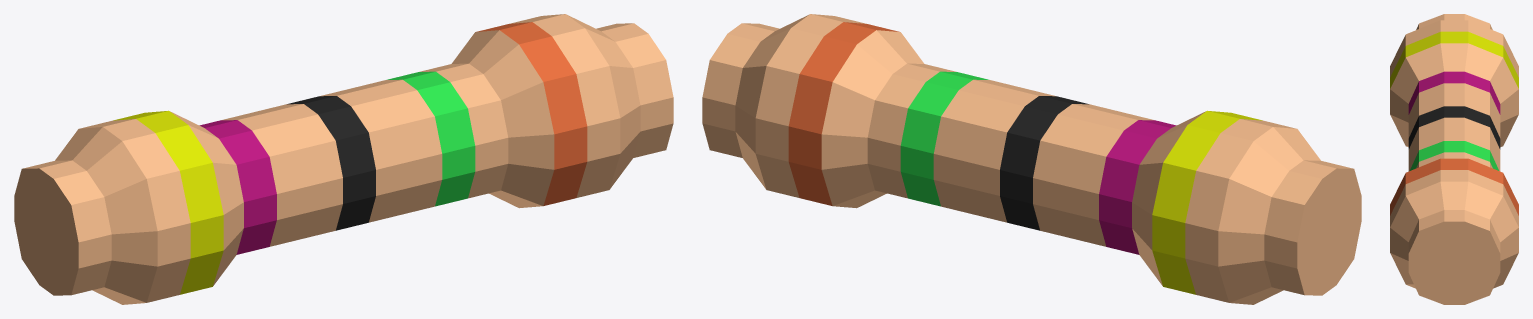
File: resistor.fbx
3 renders of one model, left to right at view 1: azimuth 30°, elevation 25°; view 2: azimuth 150°, elevation 25°; view 3: azimuth 270°, elevation 25°, orthographic. The views are drawn at different scales.
Visible parts, largest first — view 1: Cube; view 2: Cube; view 3: Cube.
Part boxes in pixels (<box>): Cube: <box>14,14,673,304</box>; Cube: <box>702,14,1361,304</box>; Cube: <box>1390,14,1518,304</box>.
Size of the model in its own units: 0.64 by 0.1684 by 0.1678.
